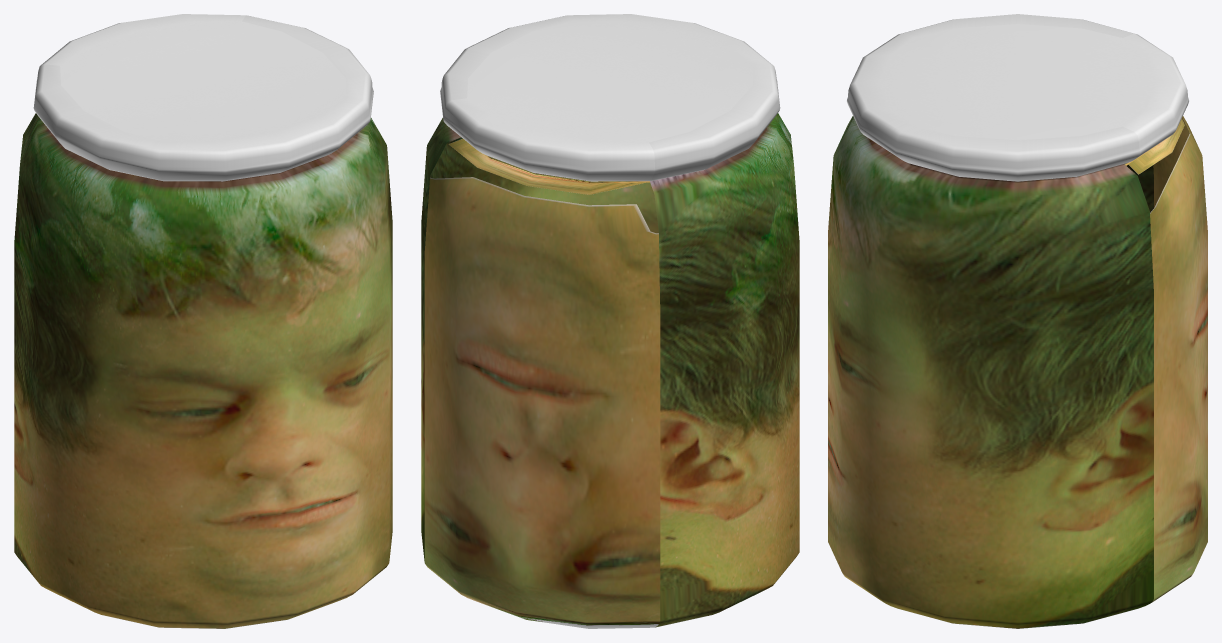
Rendered from jar_head.fbx.
The picture shows the model from 3 angles, left to right: view 1: azimuth 30°, elevation 25°; view 2: azimuth 150°, elevation 25°; view 3: azimuth 270°, elevation 25°; orthographic projection.
Visible parts, largest first — view 1: pCube1; view 2: pCube1; view 3: pCube1.
Part boxes in pixels (x1,y1,x2,y2): pCube1: (14, 14, 392, 628); pCube1: (421, 14, 799, 628); pCube1: (828, 14, 1207, 628).
Size of the model in its own units: 76.42 by 106 by 76.45.
